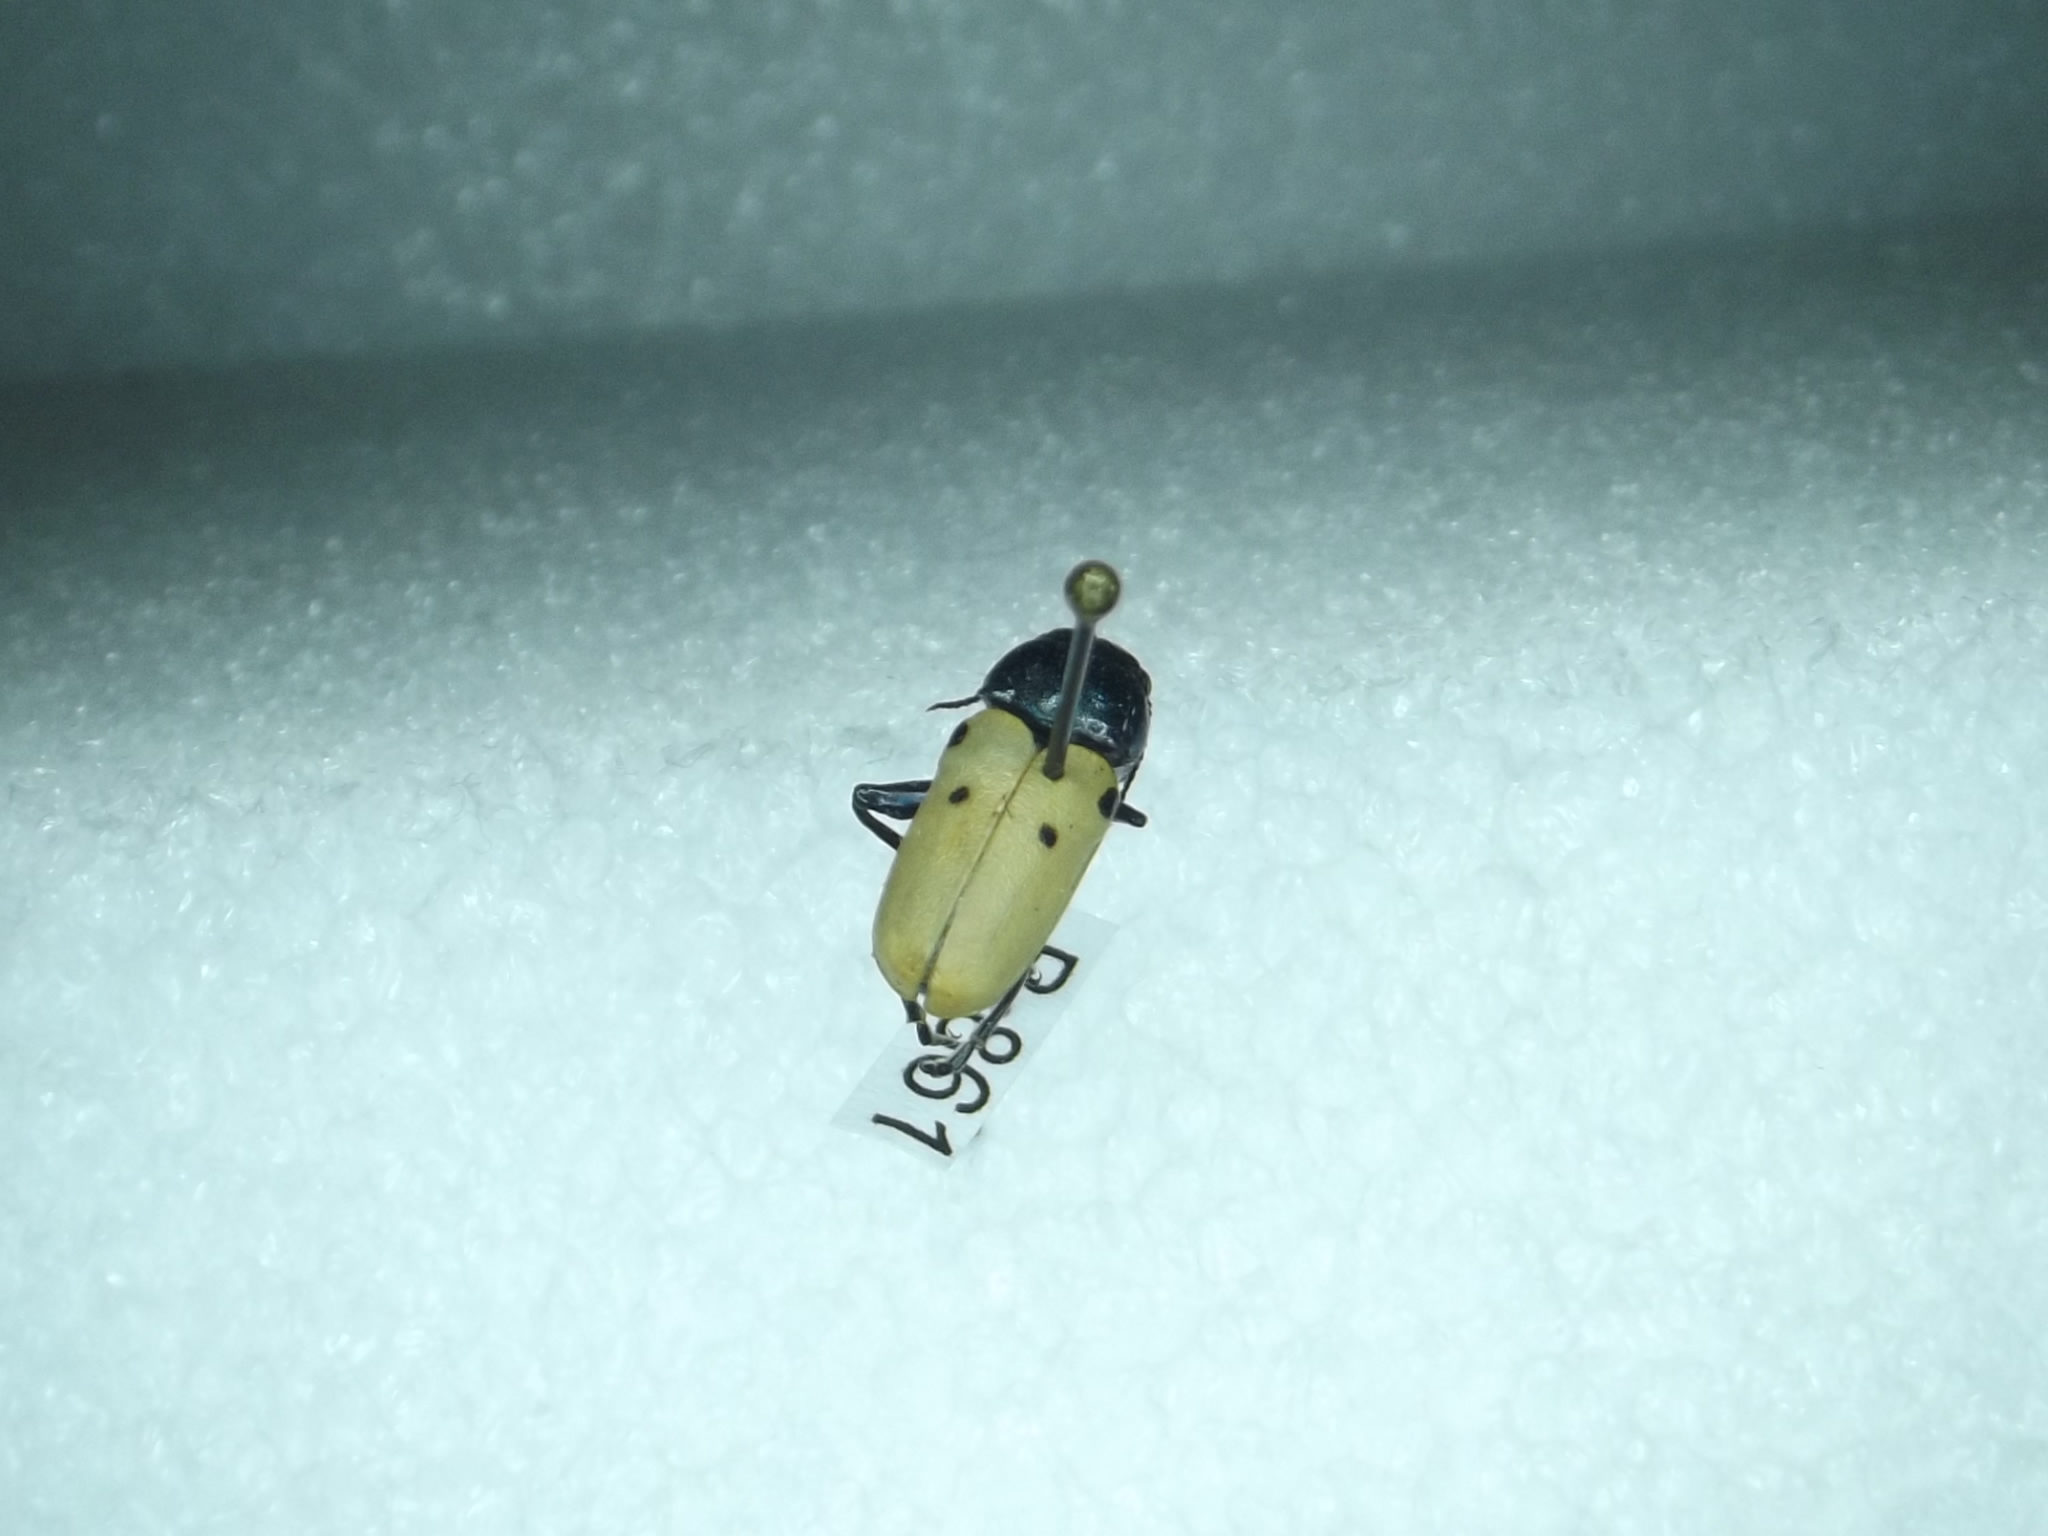Labidostomis_maculipennis: (832, 608, 1185, 1062)
